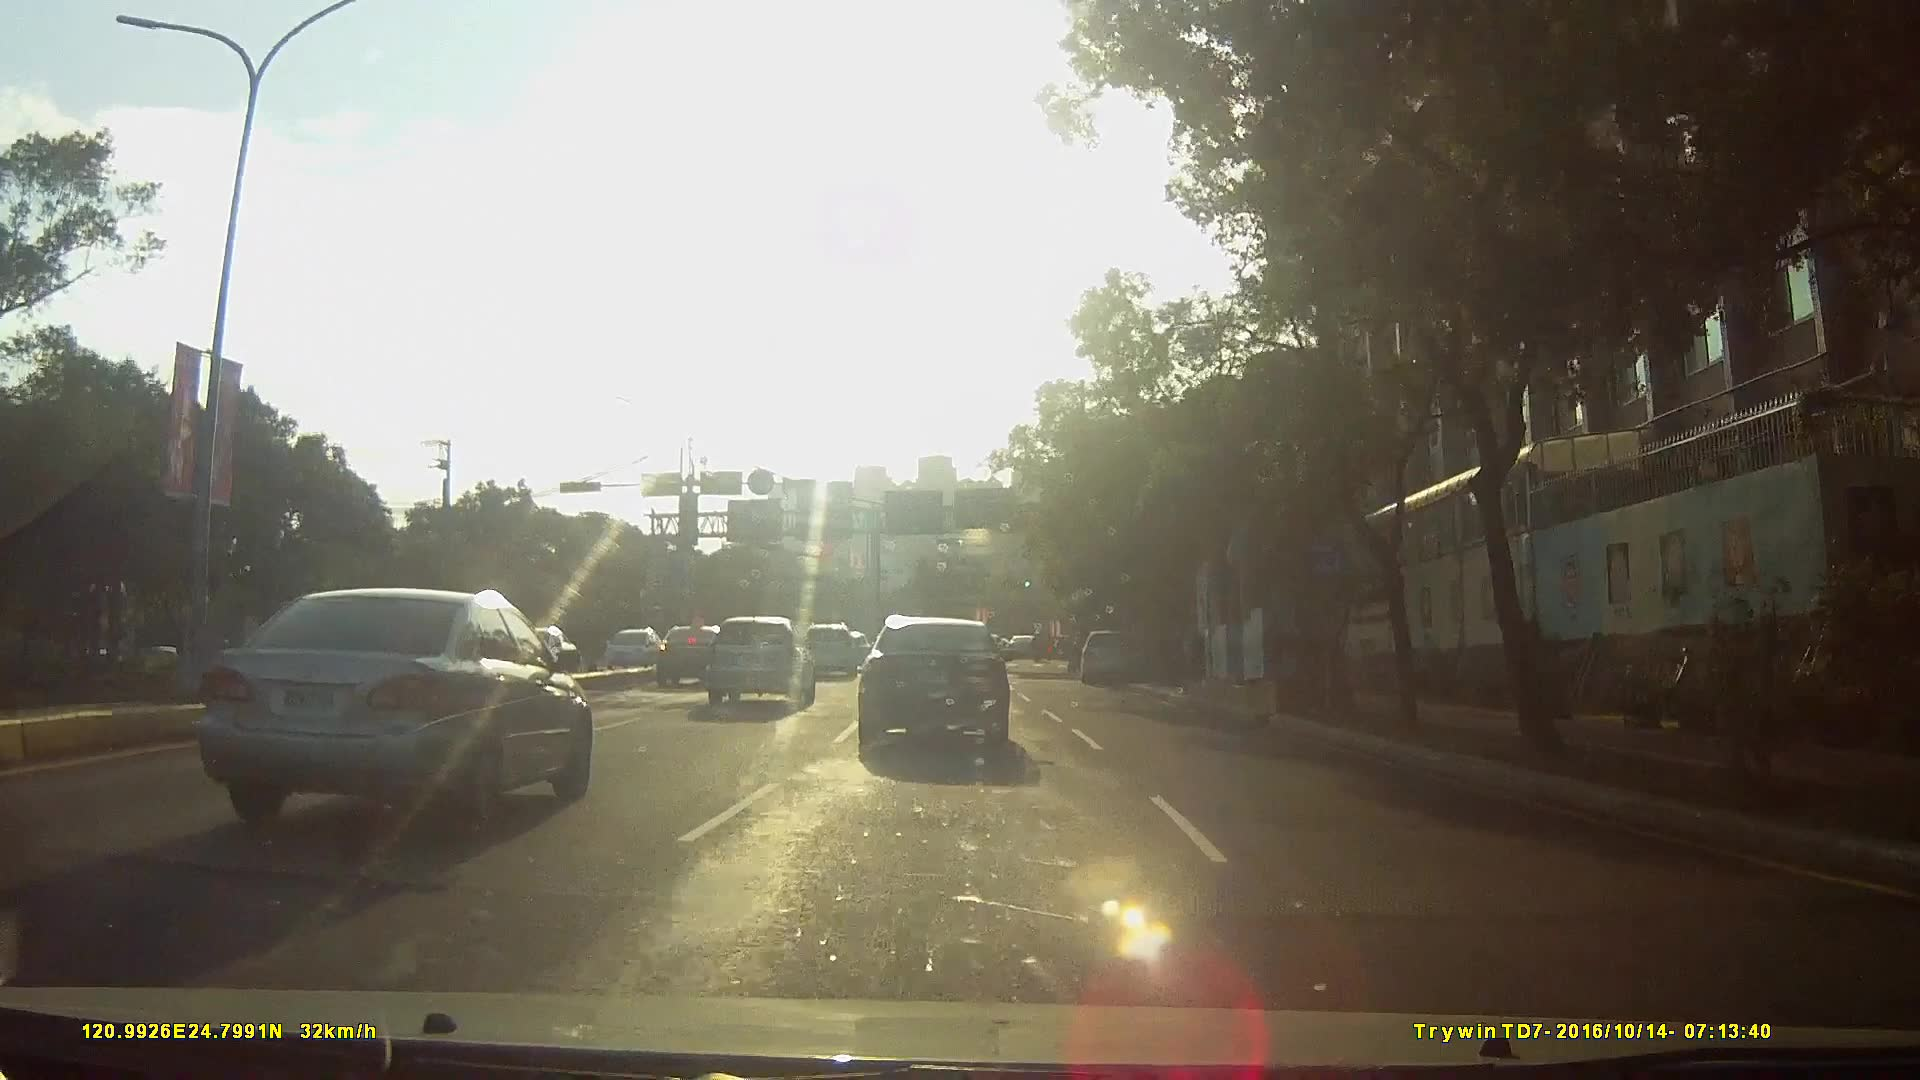vehicle: (177, 575, 603, 843), (853, 607, 1033, 761), (702, 612, 815, 708), (640, 618, 720, 682), (795, 617, 858, 676), (1080, 624, 1145, 679), (597, 625, 666, 669)
